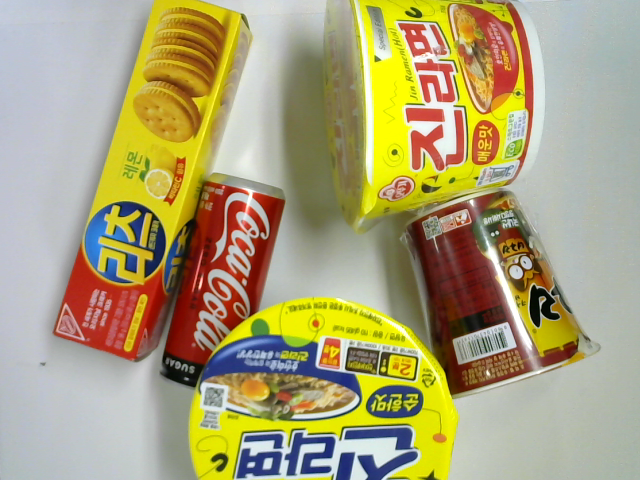Coca_Cola_Zero_Can_250ml: (157, 173, 286, 387)
Jinlamyeon_Hot_Taste_Large_Cup: (322, 1, 545, 237)
Jinlamyeon_Mild_Taste_Large_Cup: (187, 296, 460, 480)
Raccoon: (402, 187, 604, 402)
Ritz_Remon_96g: (52, 1, 252, 363)
